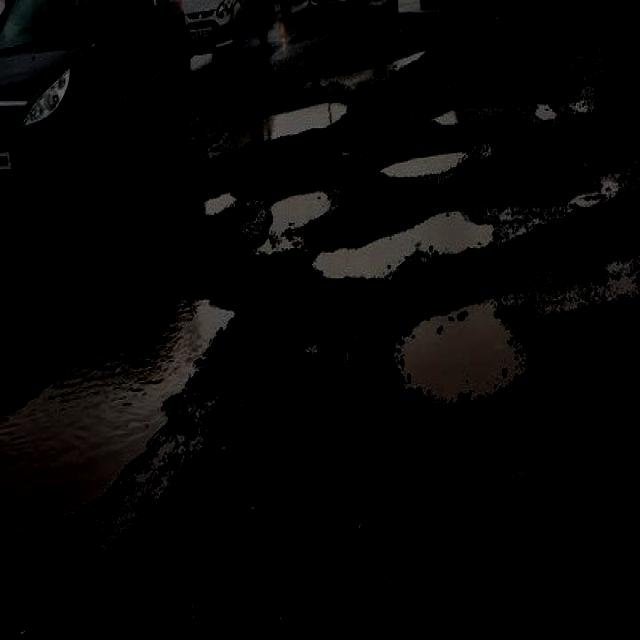Pothole: (0, 191, 640, 640), (281, 42, 588, 546), (179, 98, 352, 154)
